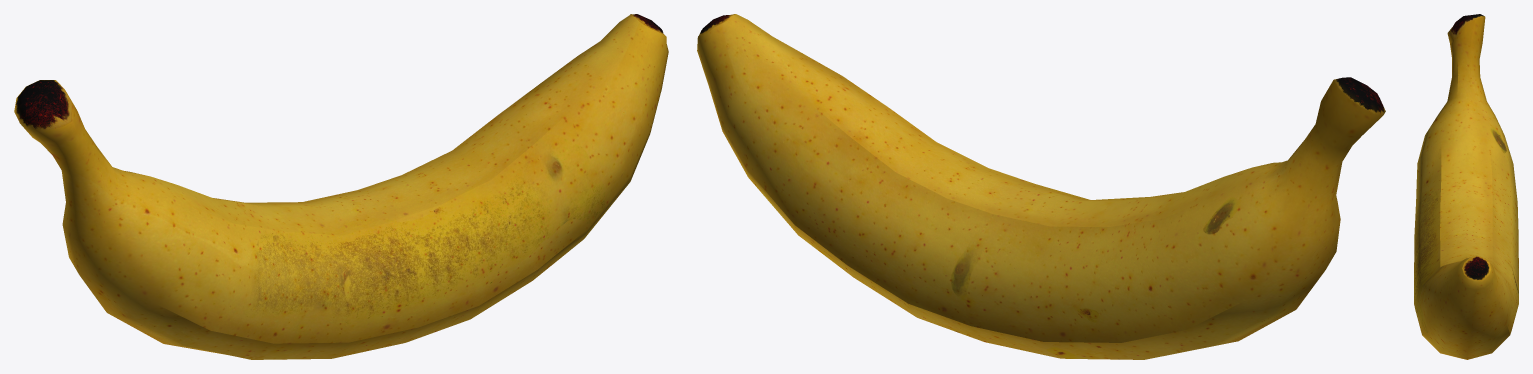
File: Banana_geo.fbx
The picture shows the model from 3 angles, left to right: view 1: azimuth 30°, elevation 25°; view 2: azimuth 150°, elevation 25°; view 3: azimuth 270°, elevation 25°; orthographic projection. The views are drawn at different scales.
Parts seen in each view (by area): view 1: Banana_geo; view 2: Banana_geo; view 3: Banana_geo.
Boxes of the visible parts, x1,y1,x2,y2 form: Banana_geo: (14, 14, 668, 359); Banana_geo: (697, 14, 1385, 359); Banana_geo: (1414, 14, 1518, 359).
Size of the model in its own units: 36.64 by 17.96 by 7.81.
1 material, 1 textured.
